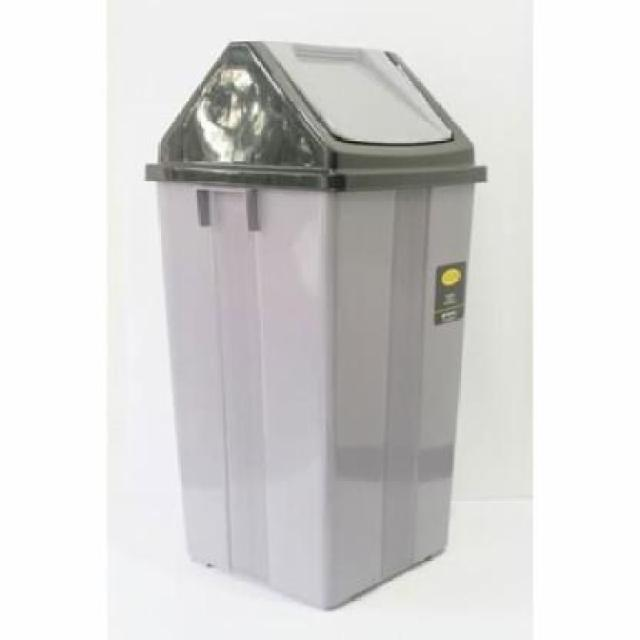garbage container: (137, 28, 501, 620)
